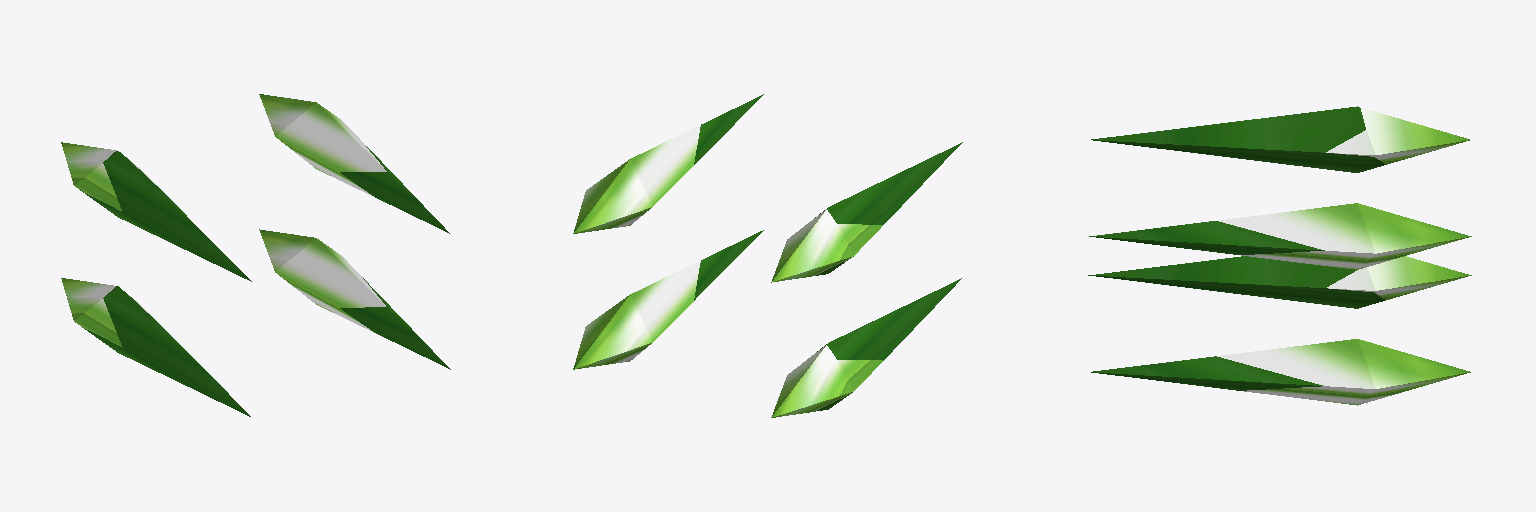
3 views of the same model, side by side, from view 1: azimuth 30°, elevation 25°; view 2: azimuth 150°, elevation 25°; view 3: azimuth 270°, elevation 25° (orthographic).
Visible parts, largest first — view 1: Laser01, Laser02; view 2: Laser02, Laser01; view 3: Laser01, Laser02.
Boxes of the visible parts, x1,y1,x2,y2 form: Laser01: [61, 94, 449, 281]; Laser02: [61, 229, 450, 416]; Laser02: [573, 230, 961, 417]; Laser01: [573, 94, 962, 282]; Laser01: [1089, 106, 1471, 269]; Laser02: [1088, 256, 1471, 405].
Bounding box in the file's own units: 1.75 × 1.26 × 2.16.
1 materials, 1 textured.